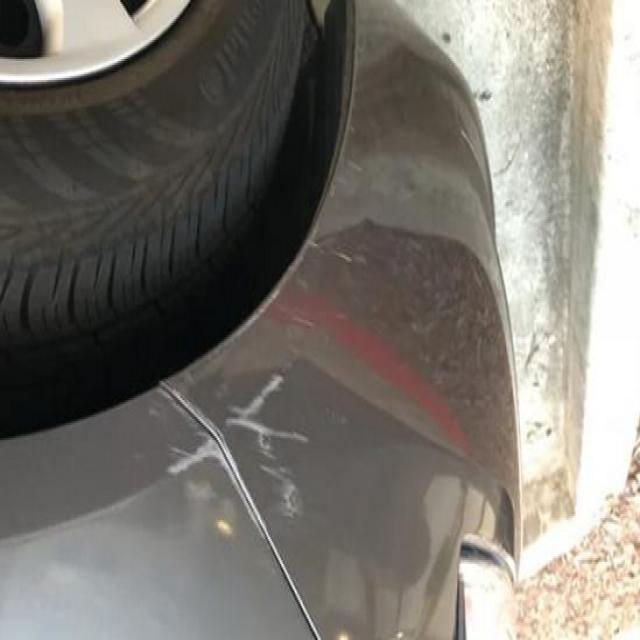scratch: (146, 354, 313, 552)
